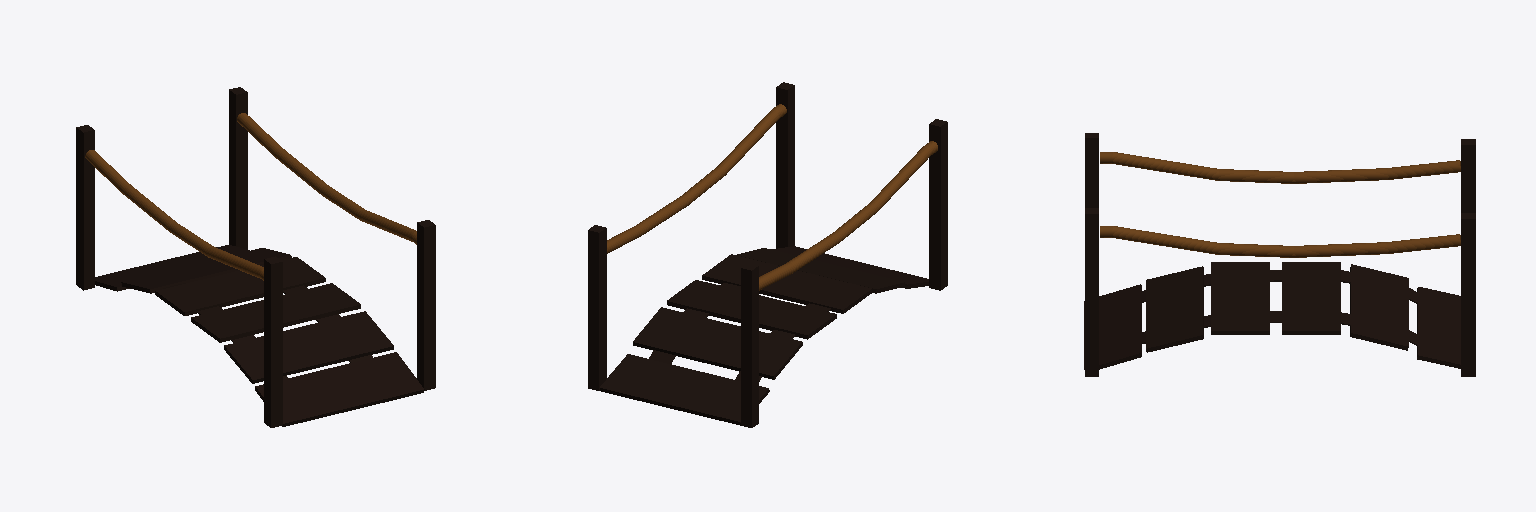
The model's file is cartoonBridge.obj.
The picture shows the model from 3 angles: view 1: azimuth 30°, elevation 25°; view 2: azimuth 150°, elevation 25°; view 3: azimuth 270°, elevation 25°; orthographic projection.
Parts seen in each view (by area): view 1: Cube.005_Cube.006, Cube.002_Cube.003, Cube.001_Cube.002, Cube_Cube.001, Cube.019_Cube.020, Cube.018_Cube.019, Cube.016_Cube.017, Cube.017_Cube.018, Cylinder, Cylinder.001, Cube.003_Cube.004, Cube.004_Cube.005; view 2: Cube.004_Cube.005, Cube.003_Cube.004, Cube_Cube.001, Cube.001_Cube.002, Cube.019_Cube.020, Cube.017_Cube.018, Cube.018_Cube.019, Cube.016_Cube.017, Cylinder, Cylinder.001, Cube.002_Cube.003, Cube.005_Cube.006; view 3: Cylinder, Cylinder.001, Cube_Cube.001, Cube.001_Cube.002, Cube.003_Cube.004, Cube.002_Cube.003, Cube.005_Cube.006, Cube.004_Cube.005, Cube.017_Cube.018, Cube.018_Cube.019, Cube.016_Cube.017, Cube.019_Cube.020.
Part boxes in pixels (bbox=[...]): Cube.005_Cube.006: bbox=[255, 352, 424, 426]; Cube.002_Cube.003: bbox=[224, 311, 393, 383]; Cube.001_Cube.002: bbox=[191, 283, 360, 342]; Cube_Cube.001: bbox=[155, 257, 325, 315]; Cube.019_Cube.020: bbox=[264, 256, 282, 427]; Cube.018_Cube.019: bbox=[417, 220, 435, 390]; Cube.016_Cube.017: bbox=[76, 125, 94, 290]; Cube.017_Cube.018: bbox=[229, 87, 247, 249]; Cylinder: bbox=[237, 113, 416, 244]; Cylinder.001: bbox=[85, 150, 263, 280]; Cube.003_Cube.004: bbox=[121, 248, 291, 293]; Cube.004_Cube.005: bbox=[95, 245, 249, 291]; Cube.004_Cube.005: bbox=[600, 354, 769, 425]; Cube.003_Cube.004: bbox=[633, 307, 802, 379]; Cube_Cube.001: bbox=[667, 280, 836, 339]; Cube.001_Cube.002: bbox=[702, 254, 871, 313]; Cube.019_Cube.020: bbox=[929, 119, 947, 290]; Cube.017_Cube.018: bbox=[588, 225, 606, 390]; Cube.018_Cube.019: bbox=[776, 82, 794, 248]; Cube.016_Cube.017: bbox=[741, 263, 758, 427]; Cylinder: bbox=[607, 104, 786, 253]; Cylinder.001: bbox=[759, 141, 937, 290]; Cube.002_Cube.003: bbox=[737, 248, 904, 293]; Cube.005_Cube.006: bbox=[772, 246, 928, 288]; Cylinder: bbox=[1100, 226, 1460, 257]; Cylinder.001: bbox=[1100, 152, 1460, 183]; Cube_Cube.001: bbox=[1282, 262, 1340, 334]; Cube.001_Cube.002: bbox=[1211, 262, 1269, 334]; Cube.003_Cube.004: bbox=[1350, 264, 1408, 350]; Cube.002_Cube.003: bbox=[1146, 266, 1203, 352]; Cube.005_Cube.006: bbox=[1084, 284, 1141, 369]; Cube.004_Cube.005: bbox=[1417, 287, 1460, 368]; Cube.017_Cube.018: bbox=[1461, 213, 1475, 376]; Cube.018_Cube.019: bbox=[1085, 208, 1098, 376]; Cube.016_Cube.017: bbox=[1461, 139, 1475, 212]; Cube.019_Cube.020: bbox=[1085, 133, 1098, 207].
Size of the model in its own units: 1.62 by 1.56 by 3.33.